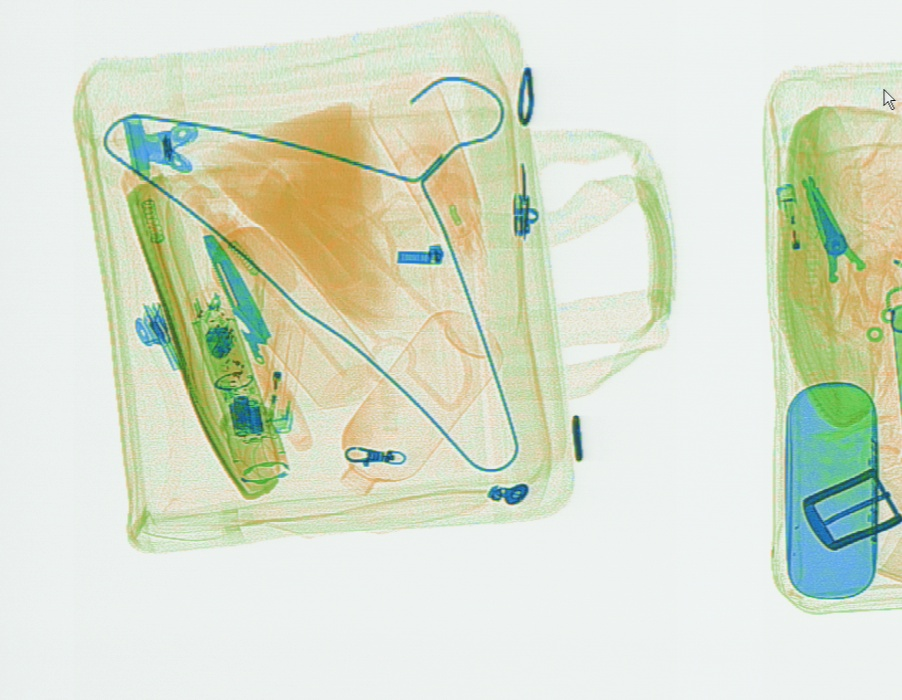knife: (201, 223, 315, 454)
lighter: (249, 325, 297, 434), (776, 180, 810, 301)
scissors: (792, 167, 894, 360)
